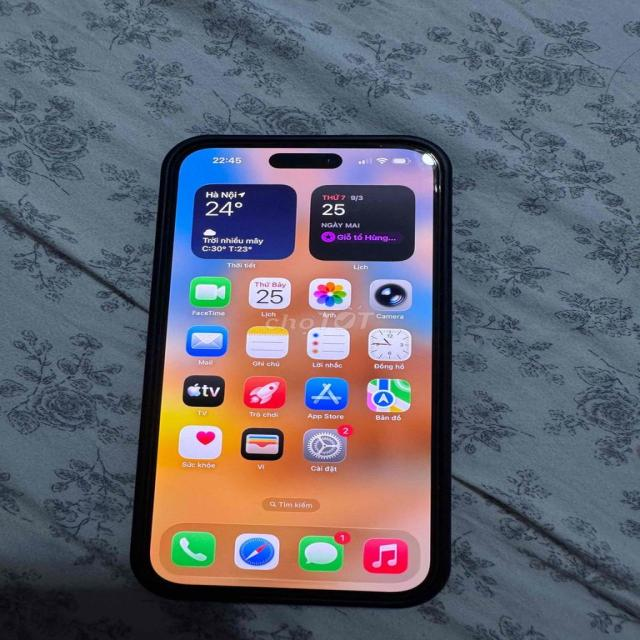gen_14: (122, 128, 467, 616)
